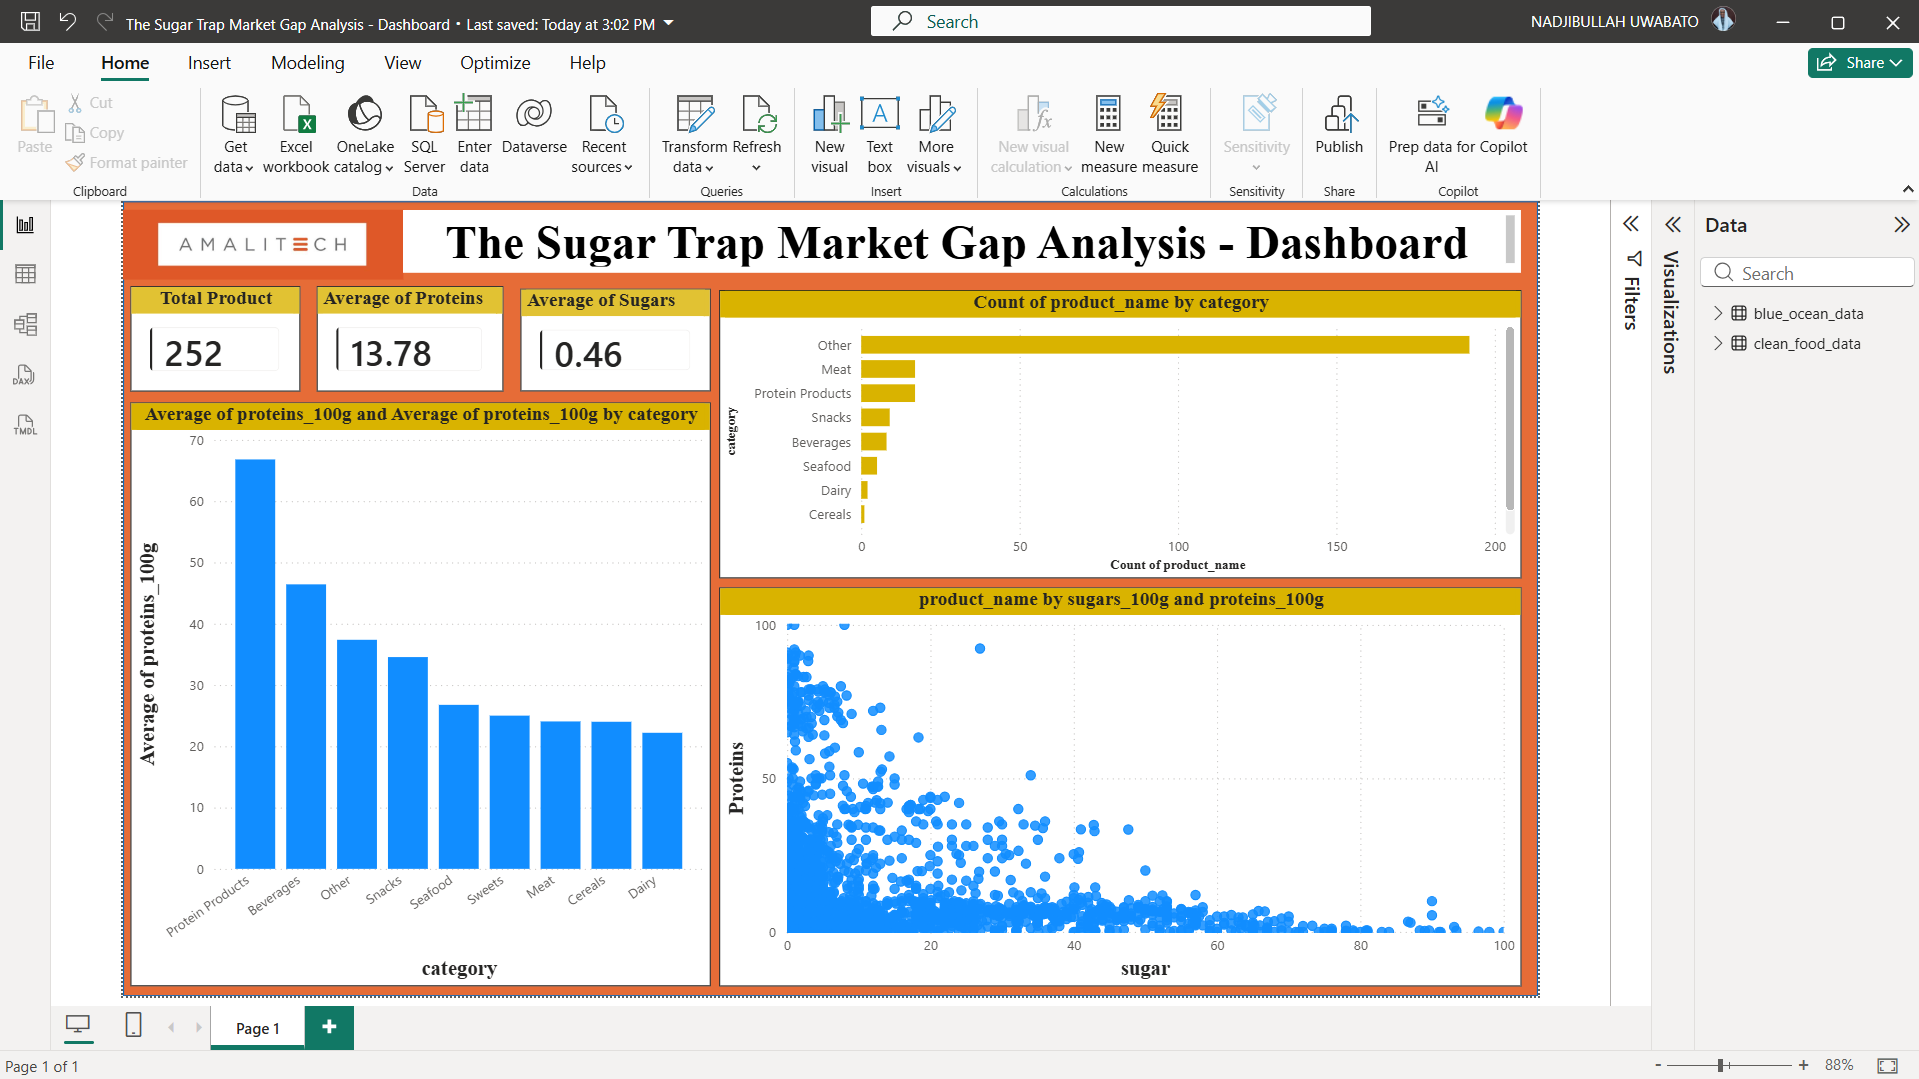

Layout of this report page (visuals, bound fields, positions):
{"tool":"powerbi","page":{"name":"Page 1","canvas":[1280,720],"ordinal":0},"visuals":[{"type":"shape","box":[0,1.1,1279.9,719.1],"z":0},{"type":"scatterChart","title":"product_name by sugars_100g and proteins_100g","fields":{"Y":["clean_food_data.proteins_100g"],"X":["clean_food_data.sugars_100g"]},"box":[539.3,350.5,725.9,360.7],"z":1000},{"type":"clusteredBarChart","fields":{"Category":["blue_ocean_data.category"],"Y":["CountNonNull(blue_ocean_data.product_name)"]},"box":[539.3,81.4,725.9,261.2],"z":2000},{"type":"clusteredColumnChart","fields":{"Category":["blue_ocean_data.category"],"Y":["Avg(blue_ocean_data.proteins_100g)","Avg(blue_ocean_data.proteins_100g)"]},"box":[6.8,183.2,524.6,528],"z":3000},{"type":"cardVisual","title":"Average of Proteins","fields":{"Data":["Avg(clean_food_data.proteins_100g)"]},"box":[175.6,77.9,168.6,95.3],"z":4000},{"type":"cardVisual","title":"Average of Sugars","fields":{"Data":["Avg(blue_ocean_data.sugars_100g)"]},"box":[359.3,80.2,172.1,93],"z":5000},{"type":"cardVisual","title":"Total Product","fields":{"Data":["CountNonNull(blue_ocean_data.product_name)"]},"box":[7,77.9,153.5,95.3],"z":6000},{"type":"image","box":[0,0,253.3,80.3],"z":7000},{"type":"textbox","box":[253.3,9,1010.8,56.5],"z":8000}]}

Visuals, with their boxes on the page's 1280x720 design canvas (x1, y1, x2, y2). These are canvas units, not pixel positions in the 1919x1079 screenshot, which may show the page scaled, cropped or inside an application window:
shape: crop(0, 1, 1280, 720)
"product_name by sugars_100g and proteins_100g" scatterChart: crop(539, 350, 1265, 711)
clusteredBarChart - blue_ocean_data.category x CountNonNull(blue_ocean_data.product_name): crop(539, 81, 1265, 343)
clusteredColumnChart - blue_ocean_data.category x Avg(blue_ocean_data.proteins_100g): crop(7, 183, 531, 711)
"Average of Proteins" cardVisual: crop(176, 78, 344, 173)
"Average of Sugars" cardVisual: crop(359, 80, 531, 173)
"Total Product" cardVisual: crop(7, 78, 160, 173)
image: crop(0, 0, 253, 80)
textbox: crop(253, 9, 1264, 66)
